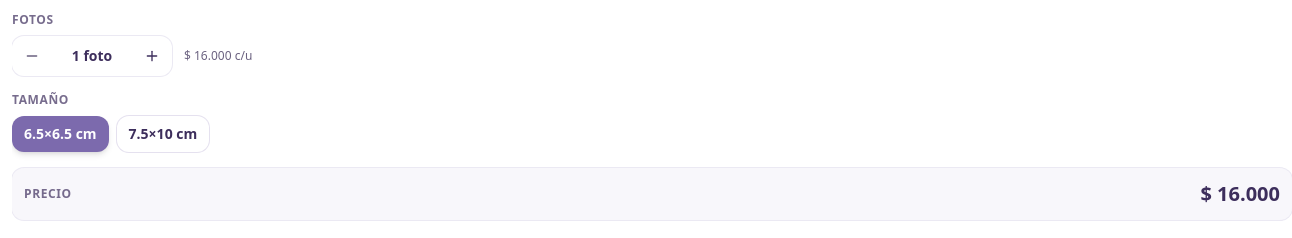
VariantSelector — stepper de cantidad › deshabilita − en el mínimo y + en el máximo del rango
Expected: the button named "Disminuir unidades" is disabled, [12, 36, 52, 76]
What coordinates should you click on to do the following:
click the button named "Aumentar unidades"
I would click on:
 (152, 56)
Its box is [132, 36, 172, 76].
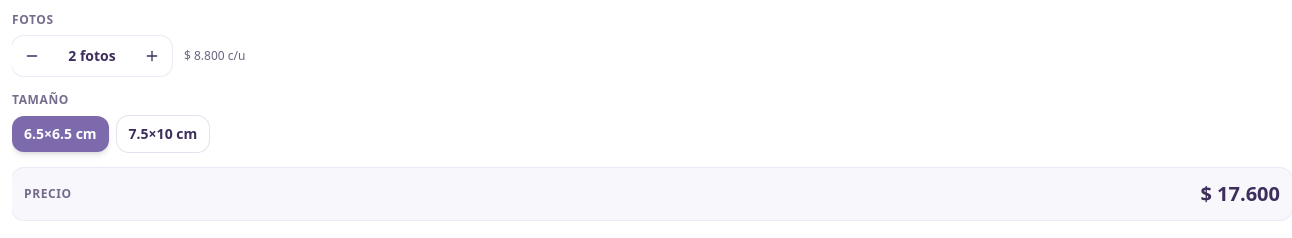
What coordinates should you click on to do the following:
click the button named "Aumentar unidades"
I would click on:
 (152, 56)
Its box is [132, 36, 172, 76].
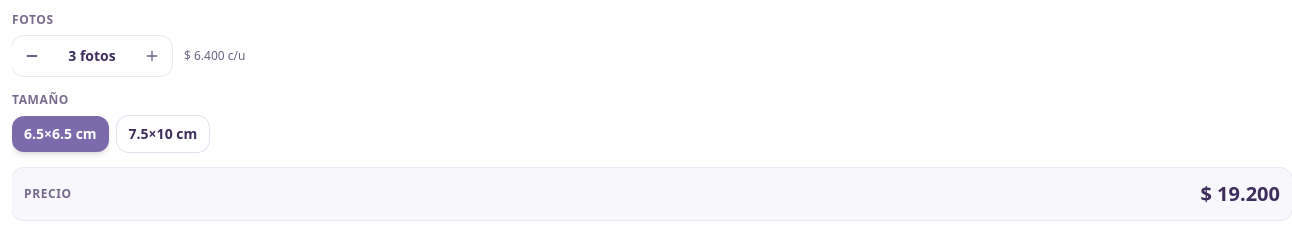
Expected: the button named "Disminuir unidades" is enabled, [12, 36, 52, 76]
Now the text "3 fotos" is shown, box [68, 46, 116, 65]
Now the button named "Aumentar unidades" is disabled, box [132, 36, 172, 76]
